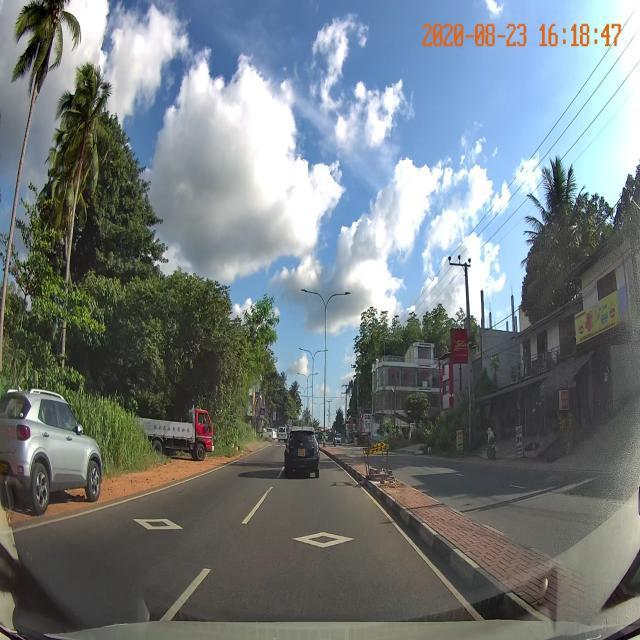diamond: (203, 505, 444, 569)
